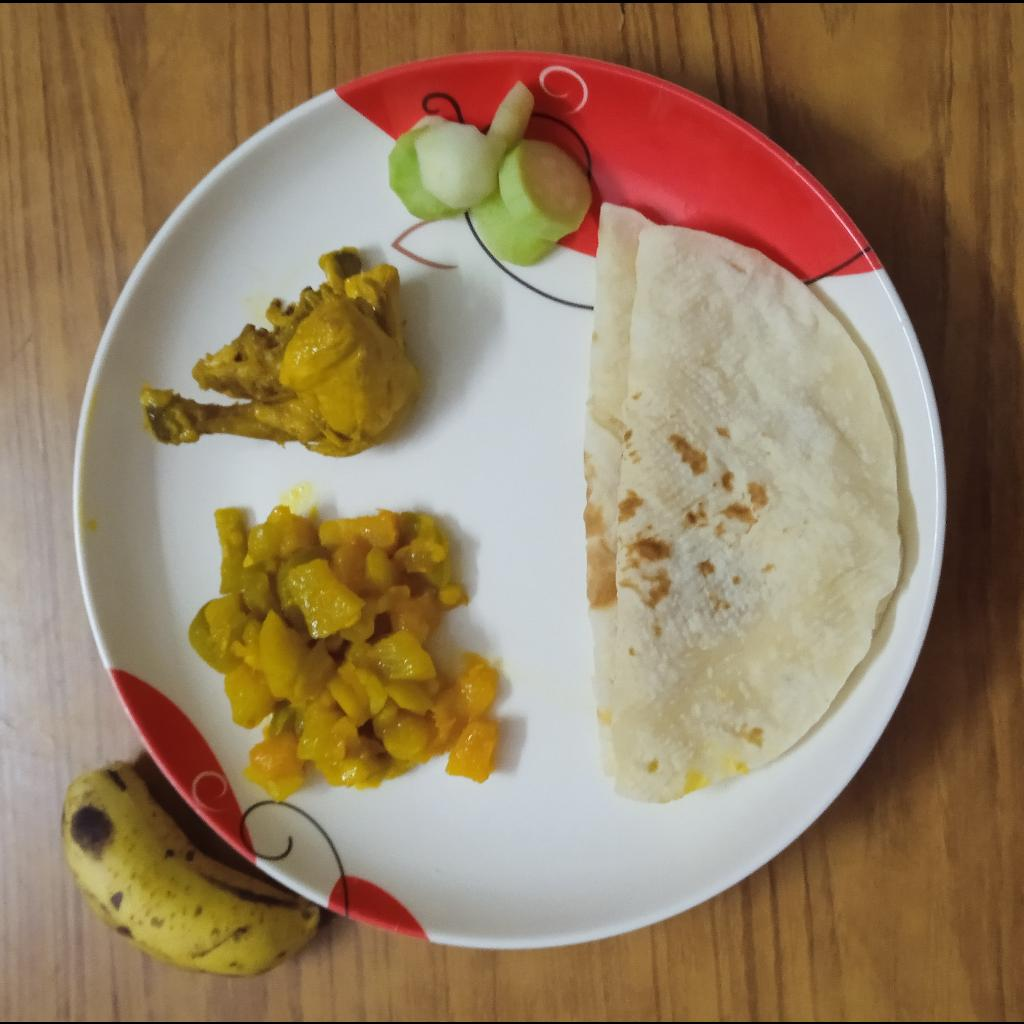banana: (60, 759, 319, 979)
chicken: (141, 247, 430, 463)
cucumber: (387, 76, 590, 266)
ruti: (582, 205, 901, 806)
vegetable: (183, 502, 501, 806)
